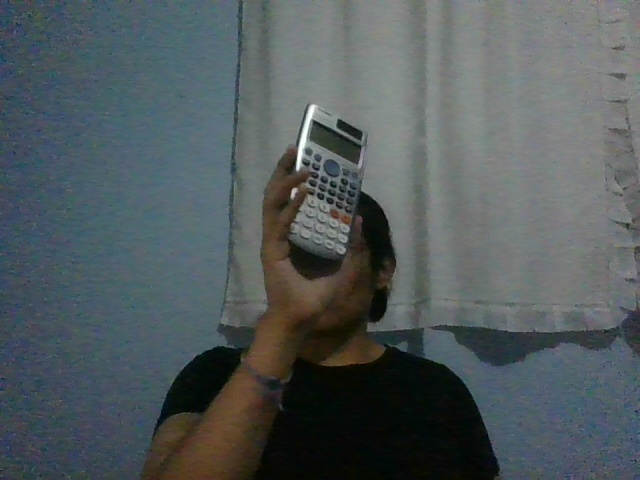calculadora: (285, 104, 368, 260)
